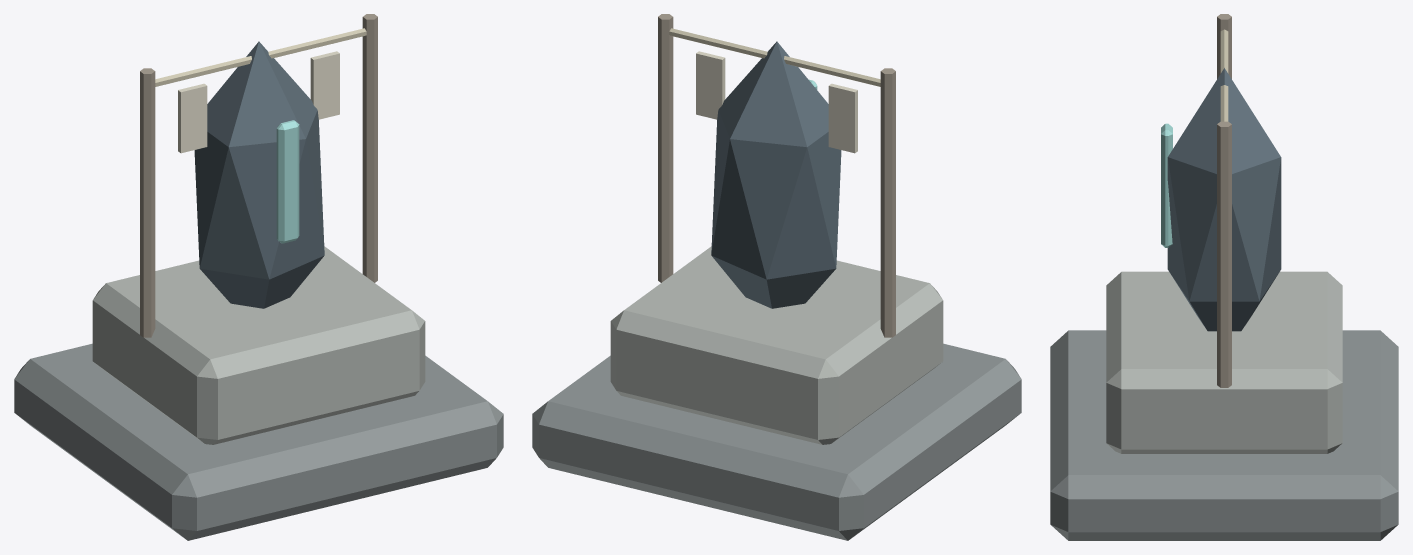
Rendered from SM_ENV_Structure_04_MemoryShrine.glb.
3 views of the same model, side by side, from view 1: azimuth 30°, elevation 25°; view 2: azimuth 150°, elevation 25°; view 3: azimuth 270°, elevation 25° (orthographic).
Visible parts, largest first — view 1: SM_ENV_Structure_04_MemoryShrine; view 2: SM_ENV_Structure_04_MemoryShrine; view 3: SM_ENV_Structure_04_MemoryShrine.
Boxes of the visible parts, x1=… form: SM_ENV_Structure_04_MemoryShrine: x1=14, y1=14, x2=503, y2=540; SM_ENV_Structure_04_MemoryShrine: x1=532, y1=14, x2=1021, y2=540; SM_ENV_Structure_04_MemoryShrine: x1=1050, y1=14, x2=1398, y2=540.
Bounding box in the file's own units: 1.25 × 1.46 × 1.15.
